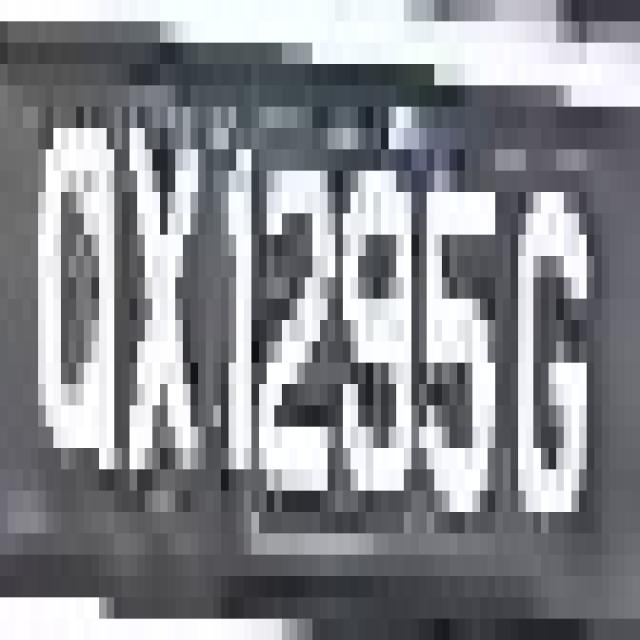1: (198, 128, 252, 533)
2: (252, 128, 336, 533)
5: (412, 106, 511, 554)
9: (328, 86, 419, 534)
G: (495, 106, 610, 554)
Q: (23, 85, 129, 555)
X: (114, 85, 206, 512)
